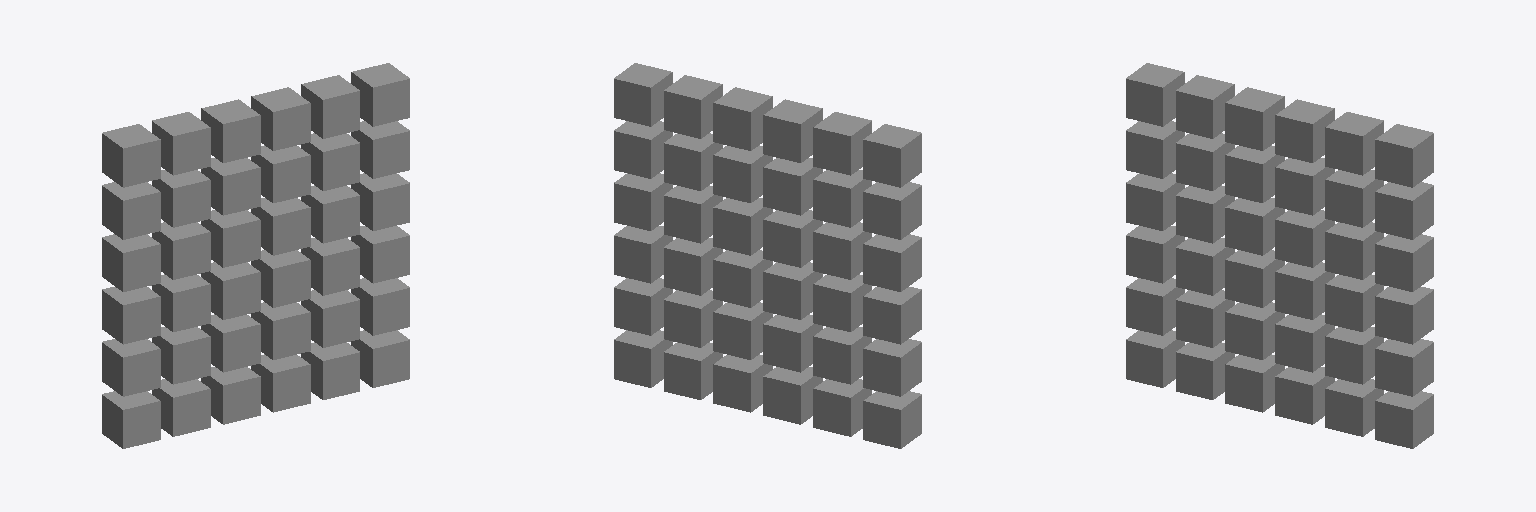
The model's file is ref_test2.obj.
3 views of the same model, side by side, from view 1: azimuth 30°, elevation 25°; view 2: azimuth 150°, elevation 25°; view 3: azimuth 330°, elevation 25° (orthographic).
Parts seen in each view (by area): view 1: Cube.035, Cube.012_Cube.048, Cube.024_Cube.060, Cube.023_Cube.059, Cube.011_Cube.047, Cube.000_Cube.036, Cube.032, Cube.033, Cube.030, Cube.034, Cube.031, Cube.027_Cube.063 (+24 smaller); view 2: Cube.035, Cube.012_Cube.048, Cube.024_Cube.060, Cube.023_Cube.059, Cube.011_Cube.047, Cube.000_Cube.036, Cube.032, Cube.033, Cube.030, Cube.034, Cube.031, Cube.027_Cube.063 (+24 smaller); view 3: Cube.030, Cube.017_Cube.053, Cube.029_Cube.065, Cube.018_Cube.054, Cube.006_Cube.042, Cube.005_Cube.041, Cube.033, Cube.032, Cube.035, Cube.031, Cube.034, Cube.026_Cube.062 (+24 smaller).
Boxes of the visible parts, x1,y1,x2,y2 form: Cube.035: [102, 124, 160, 187]; Cube.012_Cube.048: [102, 287, 160, 344]; Cube.024_Cube.060: [102, 391, 160, 448]; Cube.023_Cube.059: [102, 339, 160, 396]; Cube.011_Cube.047: [102, 234, 160, 291]; Cube.000_Cube.036: [102, 182, 160, 239]; Cube.032: [251, 87, 310, 150]; Cube.033: [201, 99, 260, 162]; Cube.030: [351, 63, 409, 126]; Cube.034: [152, 112, 210, 175]; Cube.031: [301, 75, 359, 138]; Cube.027_Cube.063: [251, 354, 310, 412]; Cube.035: [863, 124, 921, 187]; Cube.012_Cube.048: [863, 287, 921, 344]; Cube.024_Cube.060: [863, 391, 921, 448]; Cube.023_Cube.059: [863, 339, 921, 396]; Cube.011_Cube.047: [863, 234, 921, 291]; Cube.000_Cube.036: [863, 182, 921, 239]; Cube.032: [713, 87, 772, 150]; Cube.033: [763, 99, 822, 162]; Cube.030: [614, 63, 672, 126]; Cube.034: [813, 112, 871, 175]; Cube.031: [664, 75, 722, 138]; Cube.027_Cube.063: [713, 354, 772, 412]; Cube.030: [1375, 124, 1433, 187]; Cube.017_Cube.053: [1375, 287, 1433, 344]; Cube.029_Cube.065: [1375, 391, 1433, 448]; Cube.018_Cube.054: [1375, 339, 1433, 396]; Cube.006_Cube.042: [1375, 234, 1433, 291]; Cube.005_Cube.041: [1375, 182, 1433, 239]; Cube.033: [1225, 87, 1284, 150]; Cube.032: [1275, 99, 1334, 162]; Cube.035: [1126, 63, 1184, 126]; Cube.031: [1325, 112, 1383, 175]; Cube.034: [1176, 75, 1234, 138]; Cube.026_Cube.062: [1225, 354, 1284, 412].
Size of the model in its own units: 11.5 by 11.5 by 1.5.